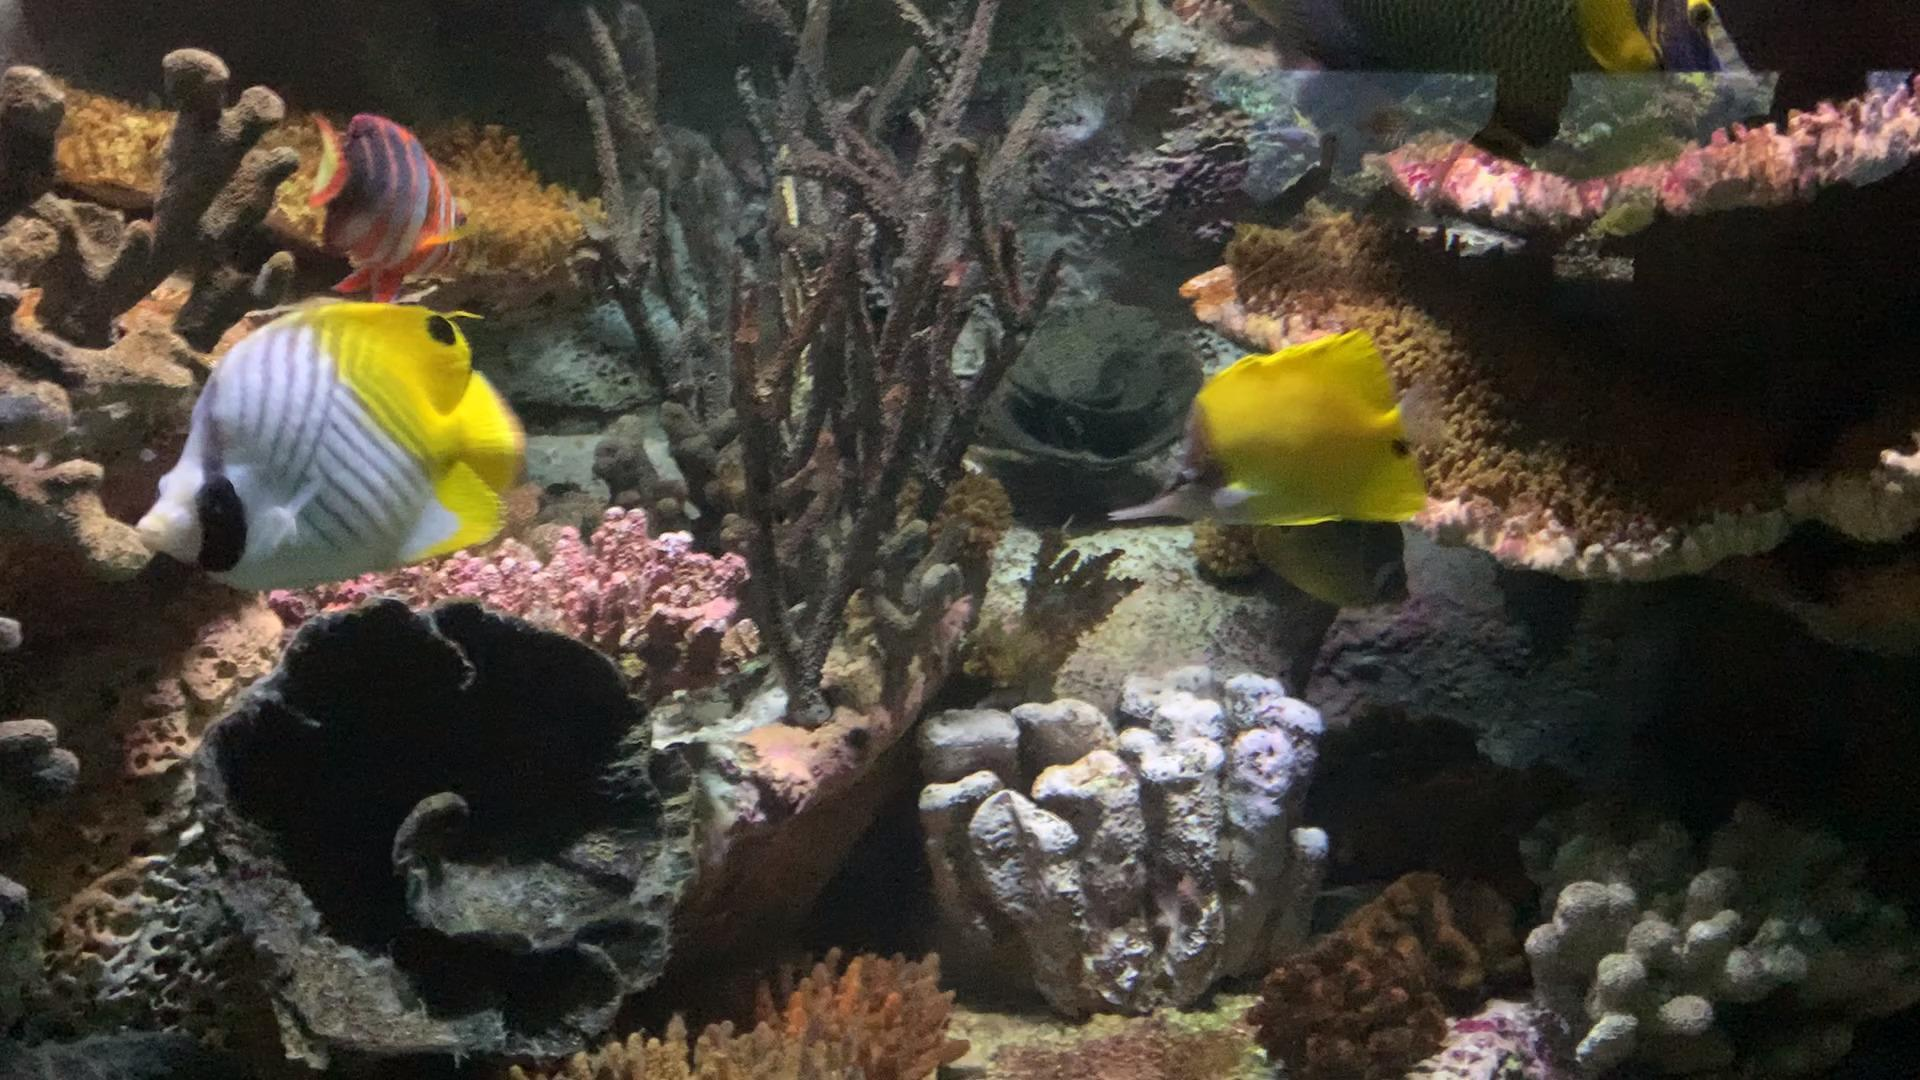fish: (135, 294, 531, 595), (1244, 0, 1721, 142), (1106, 328, 1439, 526), (297, 105, 475, 301), (1249, 481, 1412, 608), (1578, 3, 1745, 87)
